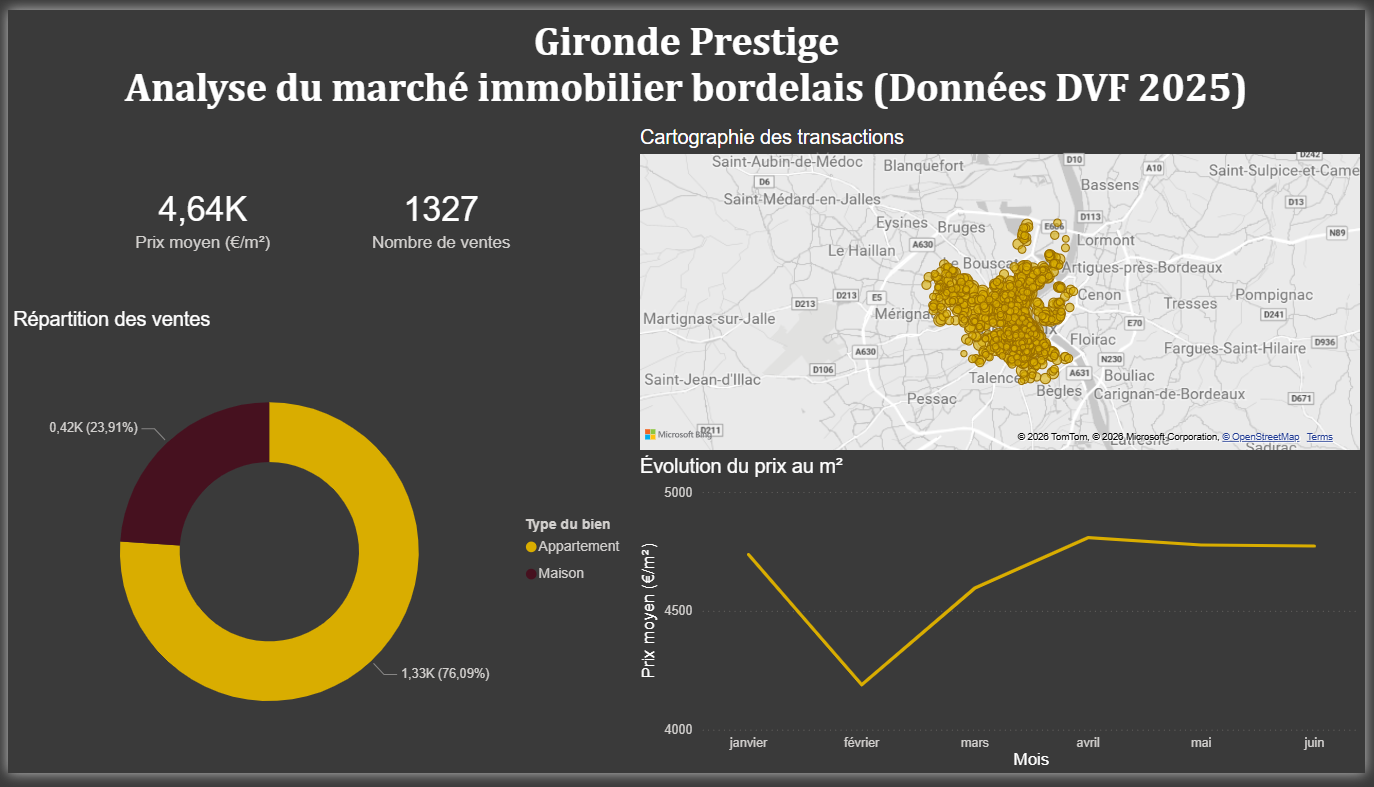

The dashboard page shown, as its layout file describes it:
{"tool":"powerbi","page":{"name":"Page 1","canvas":[1280,720],"ordinal":0},"visuals":[{"type":"textbox","box":[0,1.4,1280,108.6],"z":0},{"type":"card","fields":{"Values":["Avg(33.Prix_m2)"]},"box":[71.4,110,224.3,171.4],"z":1000},{"type":"card","title":"Total des ventes","fields":{"Values":["Count(33.id_mutation)"]},"box":[295.7,110,224.3,171.4],"z":2000},{"type":"map","title":"Cartographie des transactions","fields":{"Y":["33.latitude"],"X":["33.longitude"],"Size":["Avg(33.valeur_fonciere)"]},"box":[591.4,110,688.6,310],"z":3000},{"type":"donutChart","title":"Répartition des ventes","fields":{"Category":["33.type_local"],"Y":["Count(33.id_mutation)"]},"box":[0,281.4,591.4,438.6],"z":4000},{"type":"lineChart","title":"Évolution du prix au m²","fields":{"Category":["33.date_mutation.Variation.Hiérarchie de dates.Mois"],"Y":["Avg(33.Prix_m2)"]},"box":[591.4,420,688.6,300],"z":5000}]}

Visuals, with their boxes in screenshot pixels (x1, y1, x2, y2), scaled from the page's 1280x720 canvas onto the 1374x787 screenshot:
textbox: region(0, 2, 1373, 120)
card - Avg(33.Prix_m2): region(77, 120, 317, 308)
"Total des ventes" card: region(317, 120, 558, 308)
"Cartographie des transactions" map: region(635, 120, 1373, 459)
"Répartition des ventes" donutChart: region(0, 308, 635, 786)
"Évolution du prix au m²" lineChart: region(635, 459, 1373, 786)
